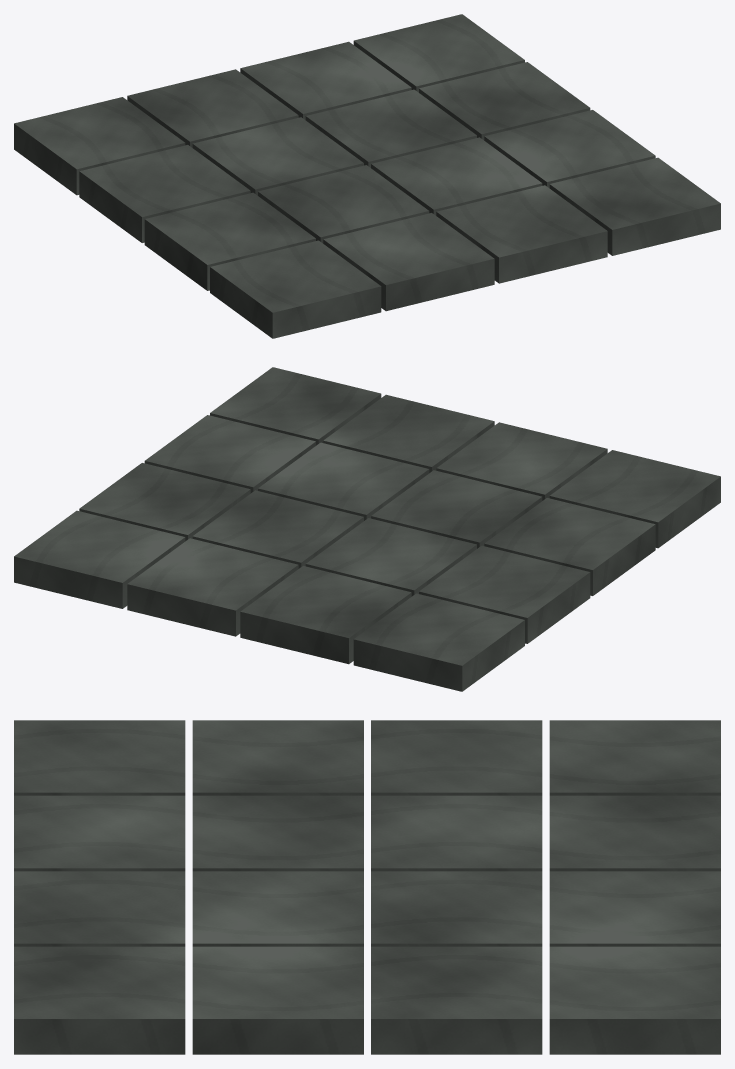
Rendered from Floor_Stone_2m.glb.
3 views of the same model, one above another, from view 1: azimuth 30°, elevation 25°; view 2: azimuth 150°, elevation 25°; view 3: azimuth 270°, elevation 25° (orthographic). The views are drawn at different scales.
Parts seen in each view (by area): view 1: Floor_Stone_2m; view 2: Floor_Stone_2m; view 3: Floor_Stone_2m.
Boxes of the visible parts, bbox=[...] form: Floor_Stone_2m: bbox=[14, 14, 720, 338]; Floor_Stone_2m: bbox=[14, 367, 720, 691]; Floor_Stone_2m: bbox=[14, 720, 720, 1054].
Bounding box in the file's own units: 1.98 × 0.11 × 1.98.
1 material, 1 textured.
